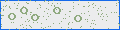o: (74, 15, 82, 22), (53, 7, 61, 14), (31, 14, 39, 21), (20, 7, 28, 14), (8, 13, 16, 20)
